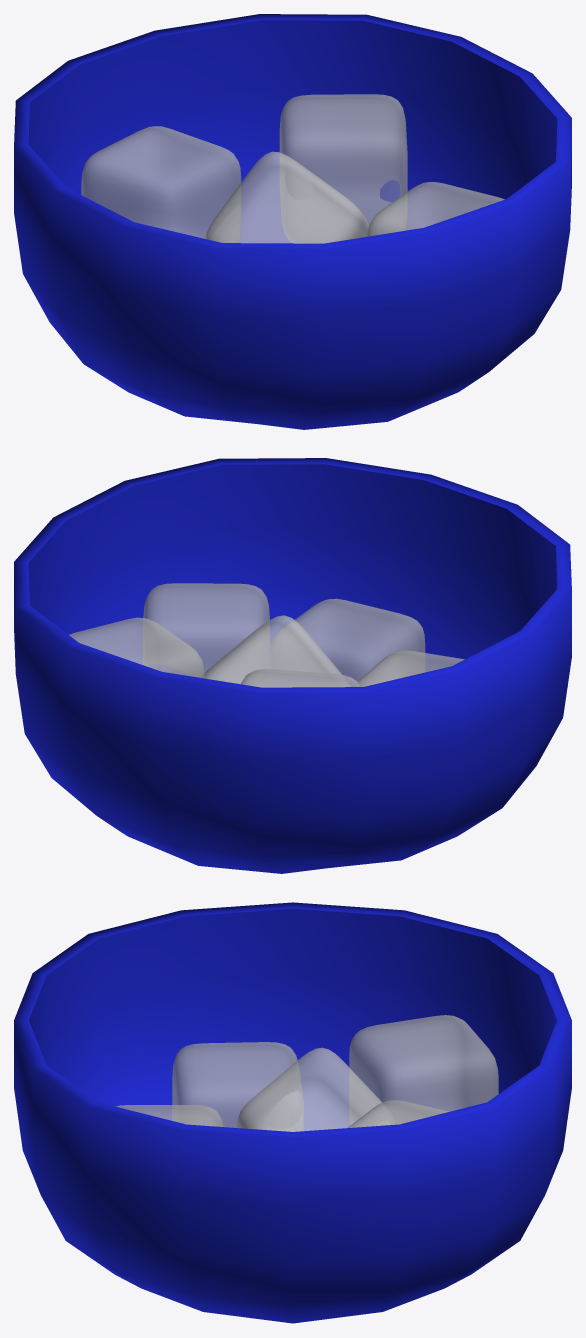
The model's file is ice.fbx.
3 renders of one model, top to bottom at view 1: azimuth 30°, elevation 25°; view 2: azimuth 150°, elevation 25°; view 3: azimuth 270°, elevation 25°, orthographic.
Visible parts, largest first — view 1: ice_bowl_exterior, ice_bowl_interior, ice_4, ice_5, ice_2, ice_3; view 2: ice_bowl_exterior, ice_bowl_interior, ice_3, ice_1, ice_2, ice_4, ice_6, ice_5; view 3: ice_bowl_exterior, ice_bowl_interior, ice_5, ice_6, ice_2, ice_4, ice_1.
Boxes of the visible parts, <box> form: ice_bowl_exterior: <box>14,14,571,429</box>; ice_bowl_interior: <box>28,20,557,242</box>; ice_4: <box>279,94,407,242</box>; ice_5: <box>81,126,241,242</box>; ice_2: <box>205,151,369,243</box>; ice_3: <box>367,182,504,236</box>; ice_bowl_exterior: <box>14,458,571,873</box>; ice_bowl_interior: <box>28,464,557,680</box>; ice_3: <box>143,583,269,683</box>; ice_1: <box>270,598,425,686</box>; ice_2: <box>201,615,350,686</box>; ice_4: <box>69,617,204,678</box>; ice_6: <box>353,650,464,686</box>; ice_5: <box>241,669,360,687</box>; ice_bowl_exterior: <box>14,902,571,1323</box>; ice_bowl_interior: <box>29,908,556,1130</box>; ice_5: <box>349,1015,498,1123</box>; ice_6: <box>172,1042,303,1131</box>; ice_2: <box>236,1047,396,1131</box>; ice_4: <box>348,1100,449,1127</box>; ice_1: <box>115,1105,223,1126</box>.
Bounding box in the file's own units: 36.32 × 18.25 × 36.32.
